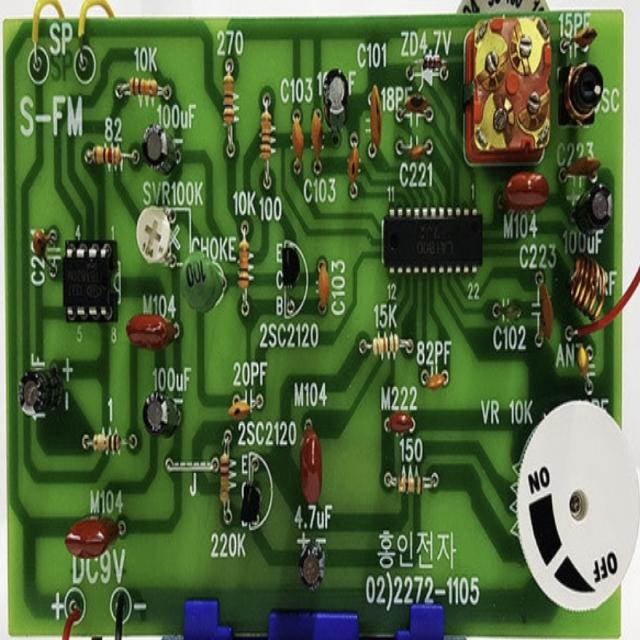Electrolytic capacitor: (571, 180, 618, 248), (16, 358, 66, 419), (138, 122, 182, 177), (318, 66, 350, 138), (140, 389, 183, 442), (301, 537, 329, 590)
resistor: (124, 68, 163, 106), (235, 242, 254, 316), (394, 467, 434, 498), (215, 448, 231, 517), (371, 332, 406, 362), (256, 106, 272, 170), (222, 66, 237, 132), (88, 141, 122, 170)
transistor: (241, 460, 270, 528), (278, 240, 300, 314)
